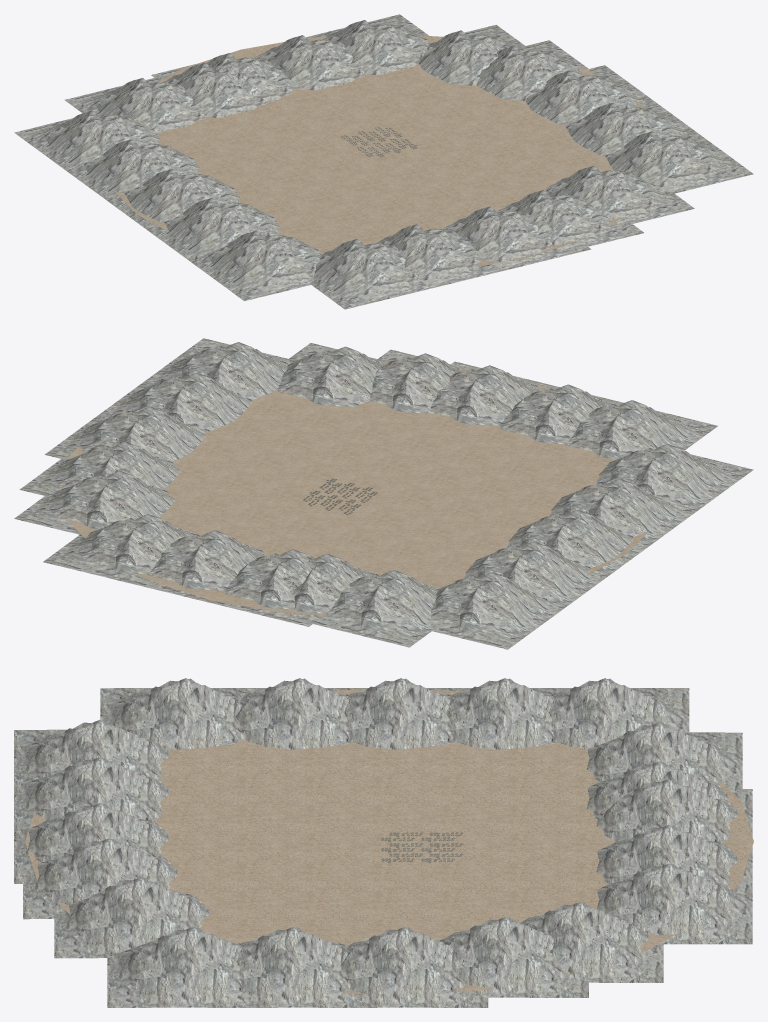
The model's file is muzdalifah_placeholder.glb.
3 views of the same model, one above another, from view 1: azimuth 30°, elevation 25°; view 2: azimuth 150°, elevation 25°; view 3: azimuth 270°, elevation 25° (orthographic). The views are drawn at different scales.
Parts seen in each view (by area): view 1: Muzdalifah_Mountain, Ground; view 2: Muzdalifah_Mountain, Ground; view 3: Muzdalifah_Mountain, Ground.
Part boxes in pixels (bbox=[...]): Muzdalifah_Mountain: bbox=[14, 14, 753, 309]; Ground: bbox=[112, 35, 657, 267]; Muzdalifah_Mountain: bbox=[14, 338, 753, 649]; Ground: bbox=[59, 361, 649, 615]; Muzdalifah_Mountain: bbox=[14, 678, 752, 1007]; Ground: bbox=[25, 689, 753, 994].
Bounding box in the file's own units: 109 × 5.95 × 106.
3 materials, 3 textured.
